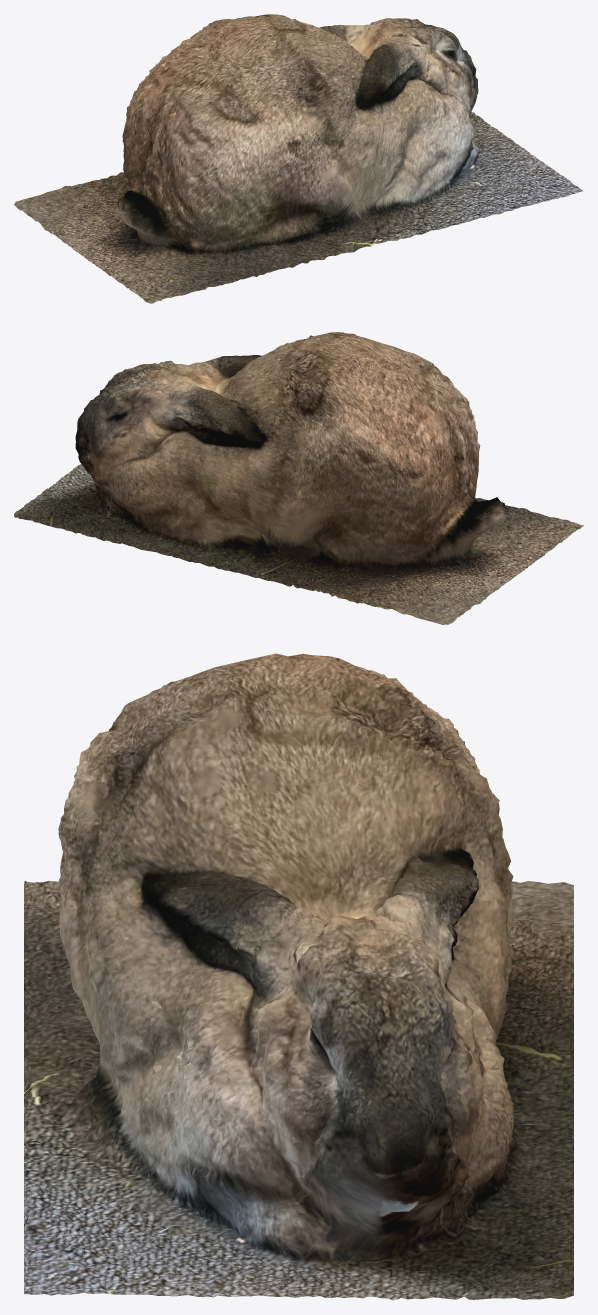
The model's file is bunny_loaf.glb.
The picture shows the model from 3 angles, top to bottom: view 1: azimuth 30°, elevation 25°; view 2: azimuth 150°, elevation 25°; view 3: azimuth 270°, elevation 25°; orthographic projection. The views are drawn at different scales.
Visible parts, largest first — view 1: Object_4; view 2: Object_4; view 3: Object_4.
Boxes of the visible parts, x1,y1,x2,y2 form: Object_4: [14, 14, 583, 303]; Object_4: [14, 332, 583, 624]; Object_4: [24, 653, 573, 1300].
Size of the model in its own units: 0.449 by 0.1883 by 0.2458.
Materials: 1 (1 with a texture image).
